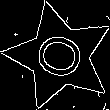O_E: (27, 27, 92, 86)
